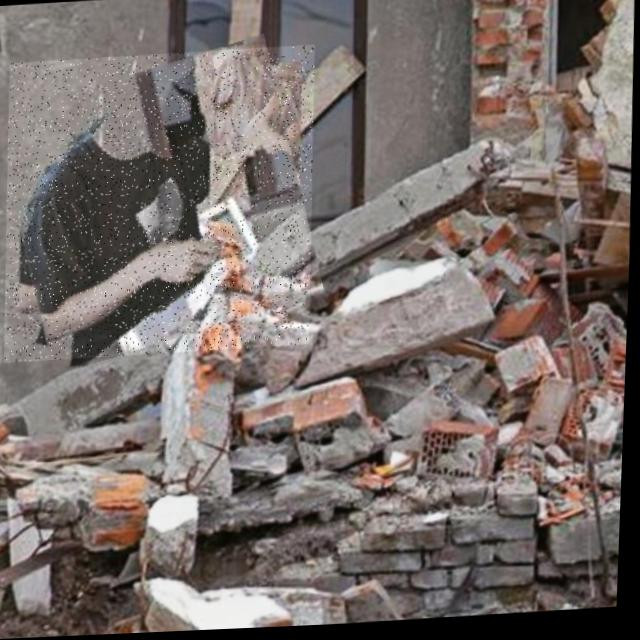Person in Rubble: (1, 47, 320, 363)
